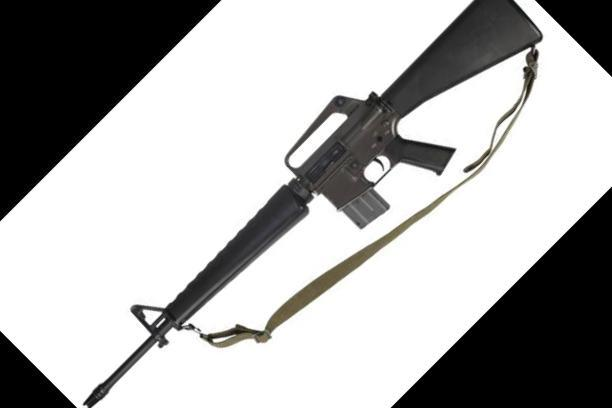larga: (82, 1, 544, 408)
